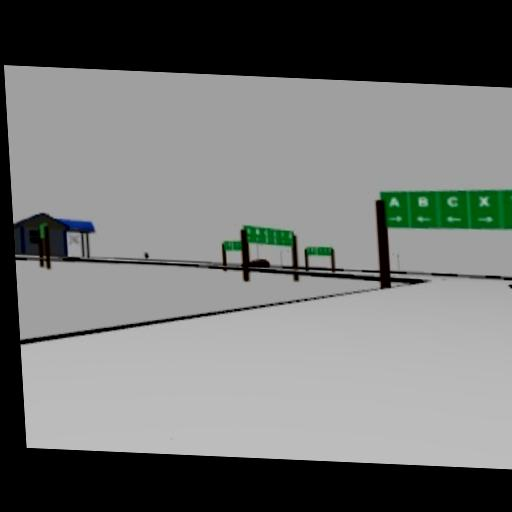A: (387, 194, 401, 208)
B: (416, 195, 431, 208)
C: (445, 194, 461, 209)
Left: (414, 214, 434, 224), (445, 214, 463, 224)
Right: (476, 213, 495, 223), (387, 213, 405, 223)
Straight: (509, 208, 512, 225)
X: (478, 193, 491, 207)
Y: (507, 193, 512, 206)
